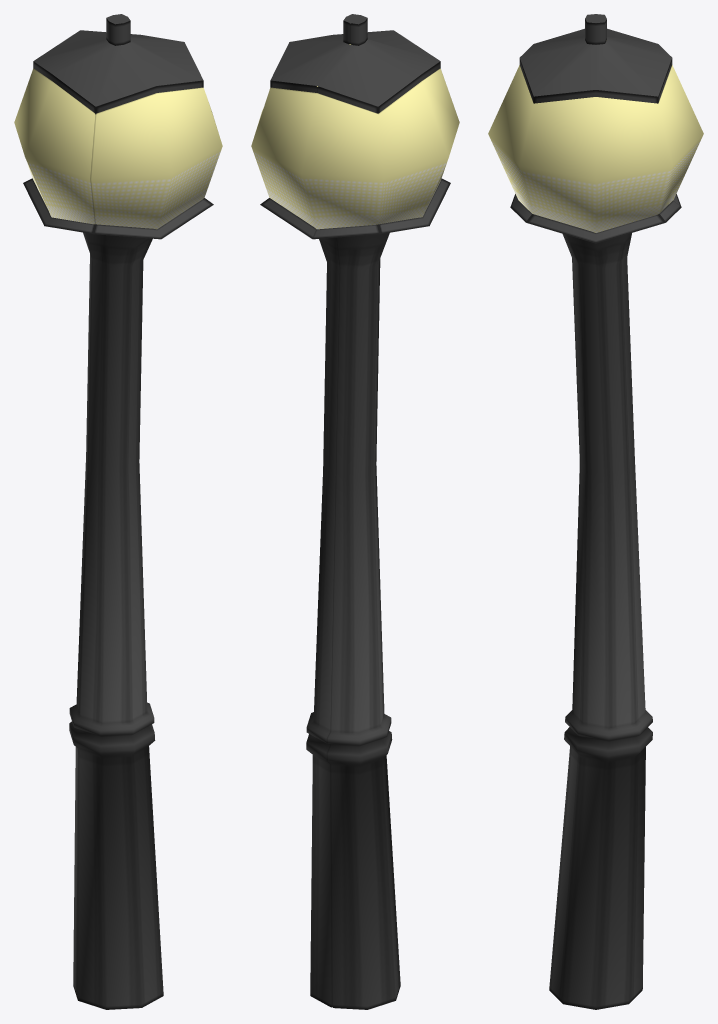
The model's file is Prop_Farola2.fbx.
The picture shows the model from 3 angles, left to right: view 1: azimuth 30°, elevation 25°; view 2: azimuth 150°, elevation 25°; view 3: azimuth 270°, elevation 25°; orthographic projection.
Visible parts, largest first — view 1: Farola2; view 2: Farola2; view 3: Farola2.
Boxes of the visible parts, x1=… form: Farola2: x1=14, y1=14, x2=222, y2=1009; Farola2: x1=251, y1=14, x2=459, y2=1009; Farola2: x1=488, y1=14, x2=703, y2=1009.
Bounding box in the file's own units: 0.9108 × 4.52 × 0.9108.
Materials: 1 (1 with a texture image).
